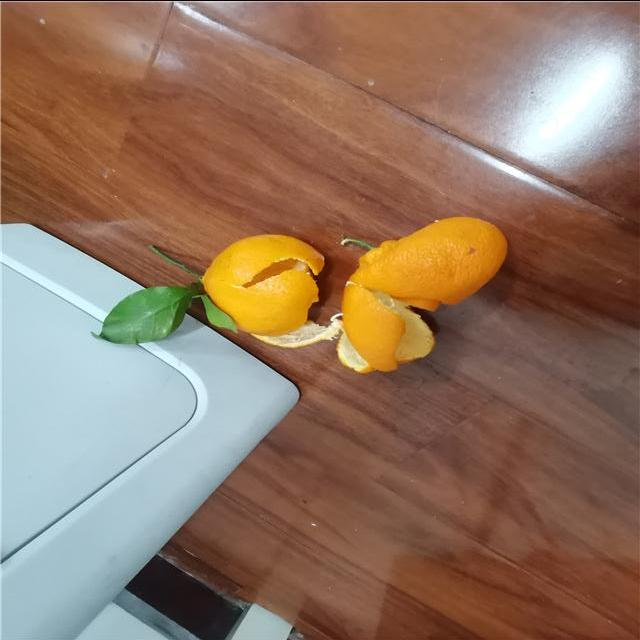orange peel: (332, 215, 508, 375), (202, 232, 341, 348)
